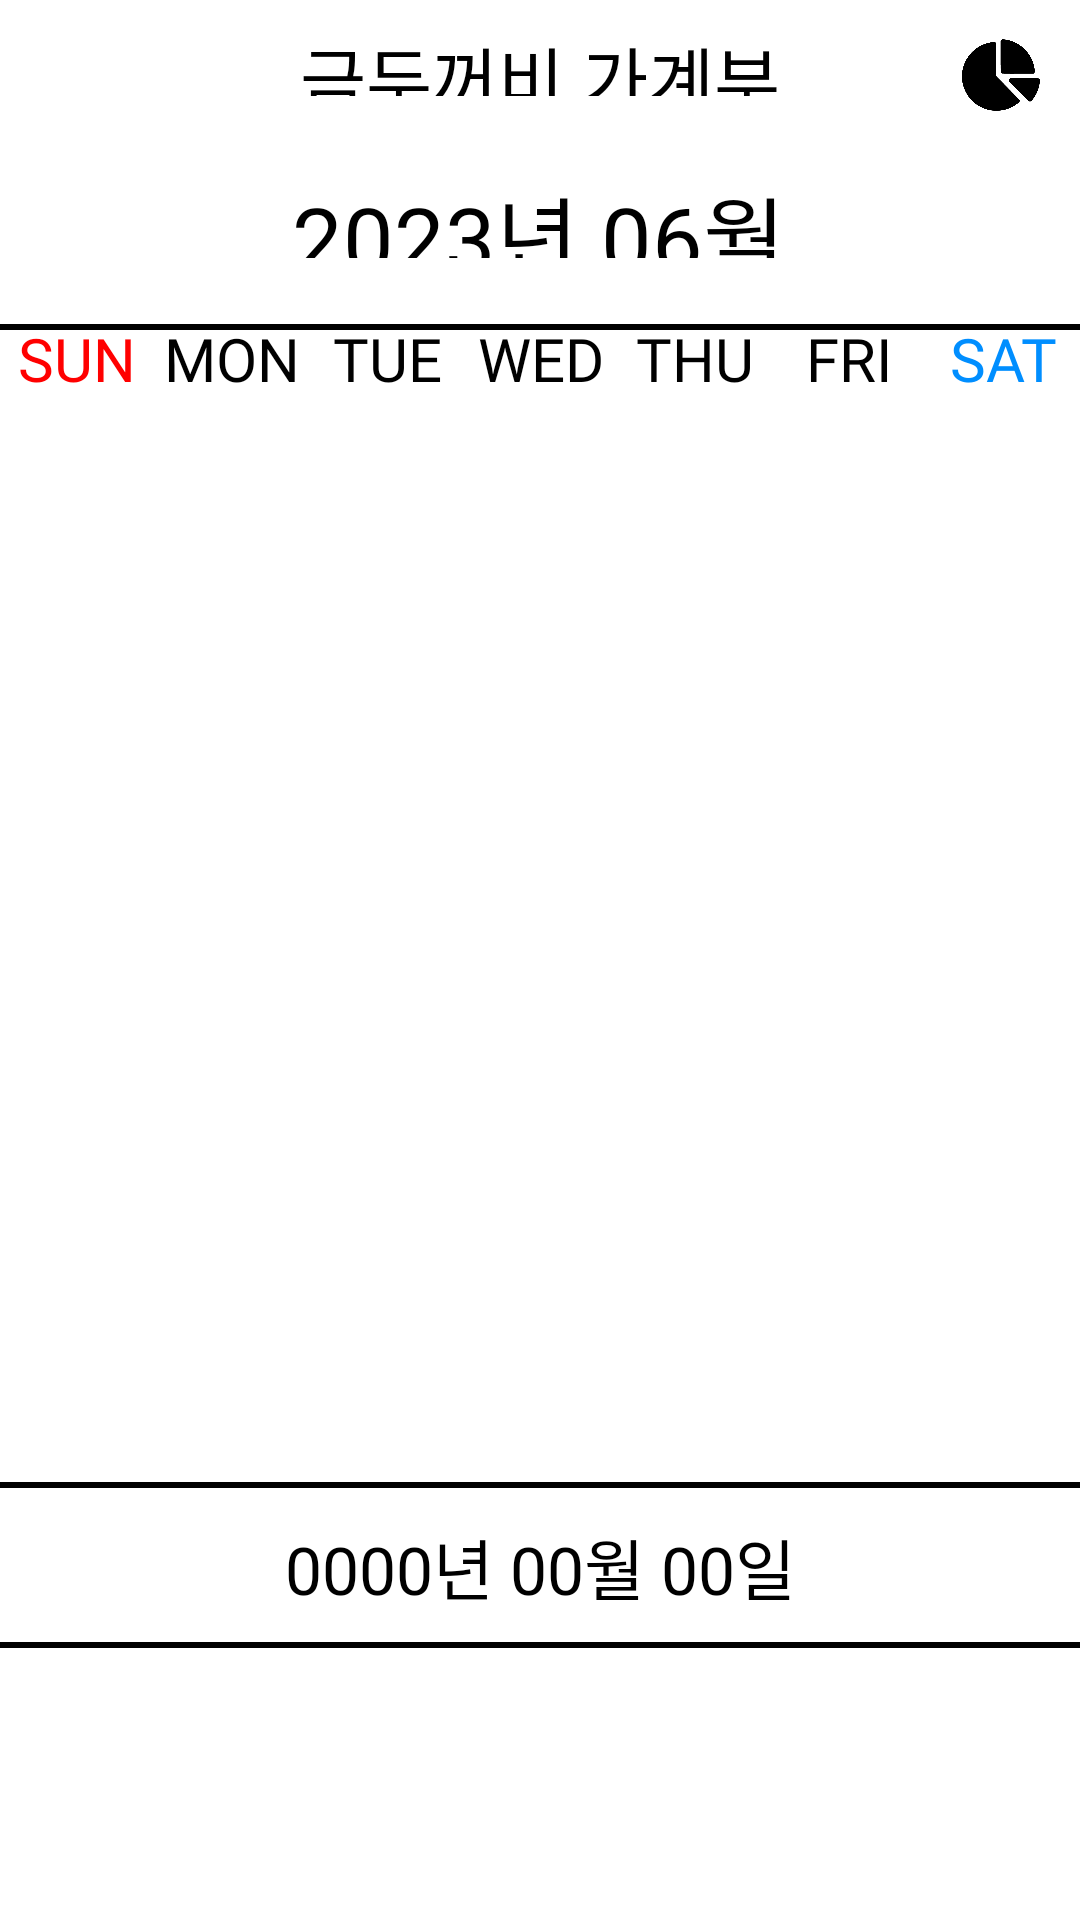

Icon bounding boxes for this 1080px x 1920px phone screenshot, format (x1, y1, x2, y2):
piechart: (962, 39, 1040, 111)
